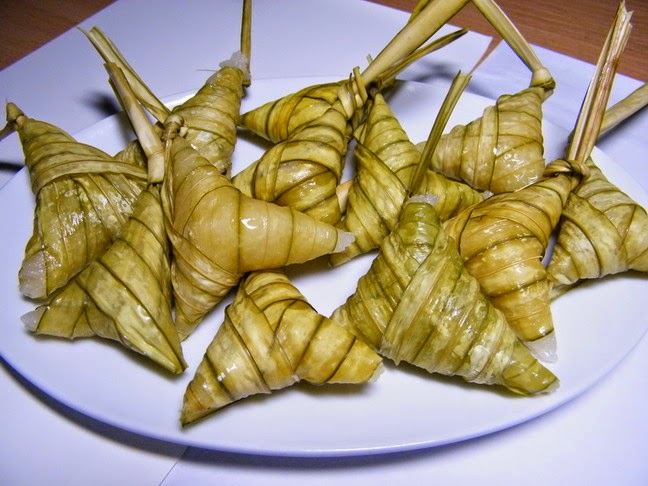kanomtom: (319, 182, 571, 413), (158, 110, 362, 342), (170, 242, 387, 429), (24, 161, 199, 380), (402, 150, 590, 353), (6, 92, 185, 300)
